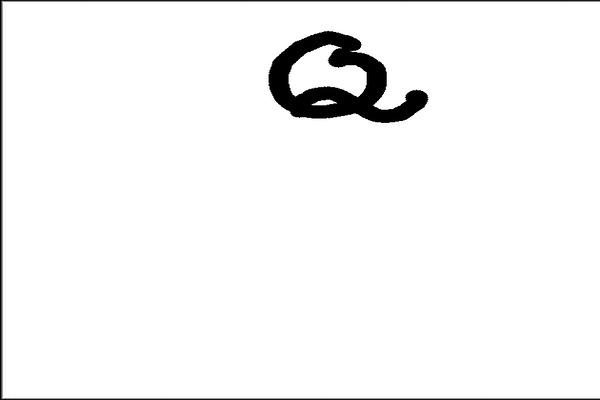Q: (256, 22, 439, 131)
